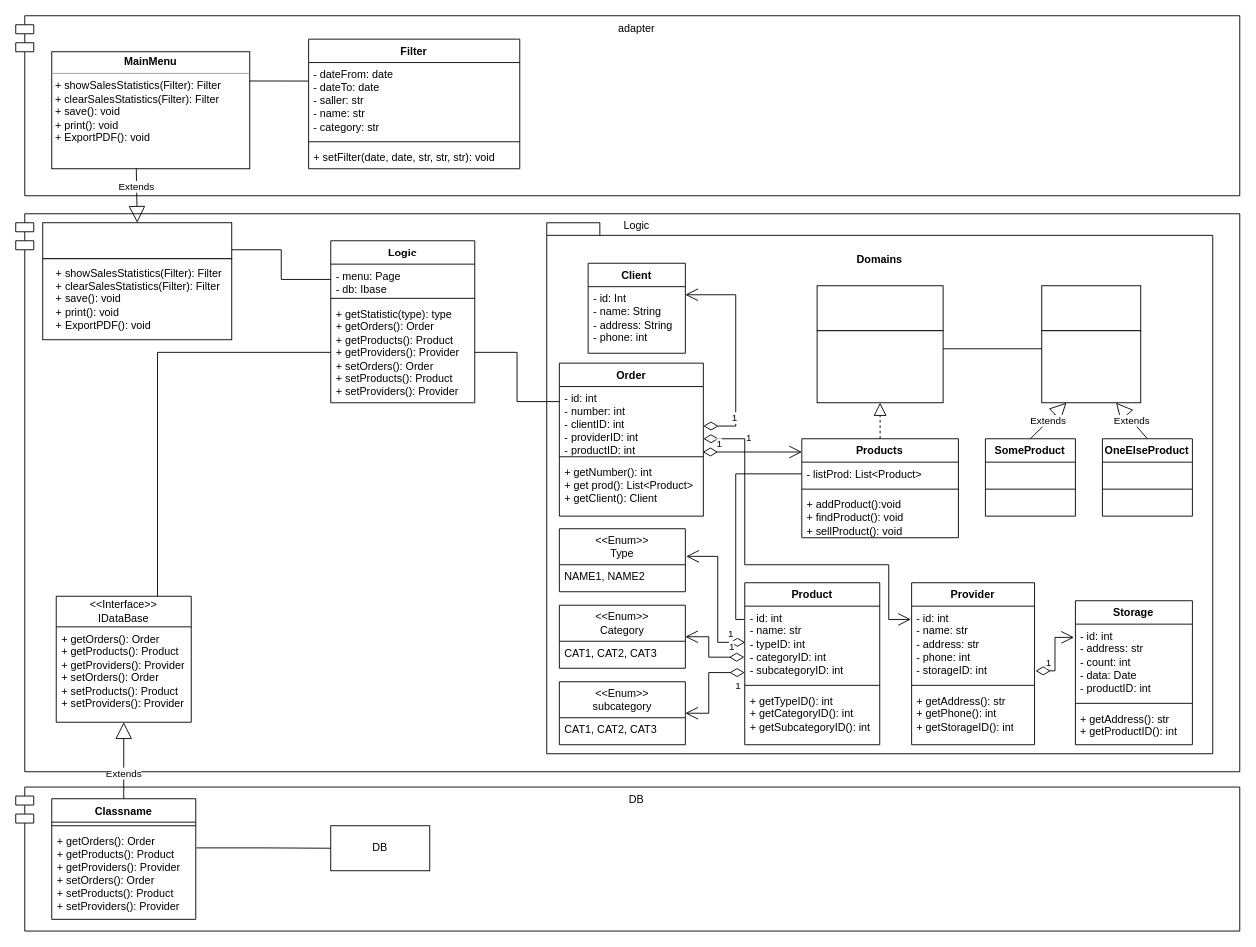
Some shapes in this 1256 by 947 pixel diagram are drawn without their labels. Each missing label, with the centre of its shape:
"+ addProduct():void + search(String): Product + sellProduct(): void" goes at [879,366].
"- id: int - name: String - price: Decimal" goes at [1091,366].
"«Abstract» Product" goes at [1091,308].
"«Interface» Page" goes at [137,240].
"«interface» ProductList" goes at [879,308].
